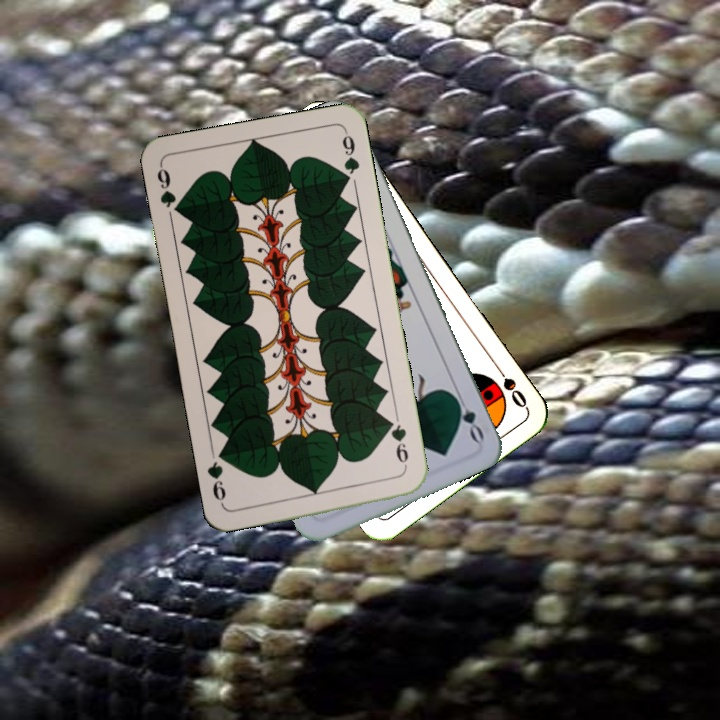G9: (153, 162, 185, 218), (383, 415, 411, 473)
GO: (448, 388, 487, 445)
SO: (489, 359, 530, 411)
